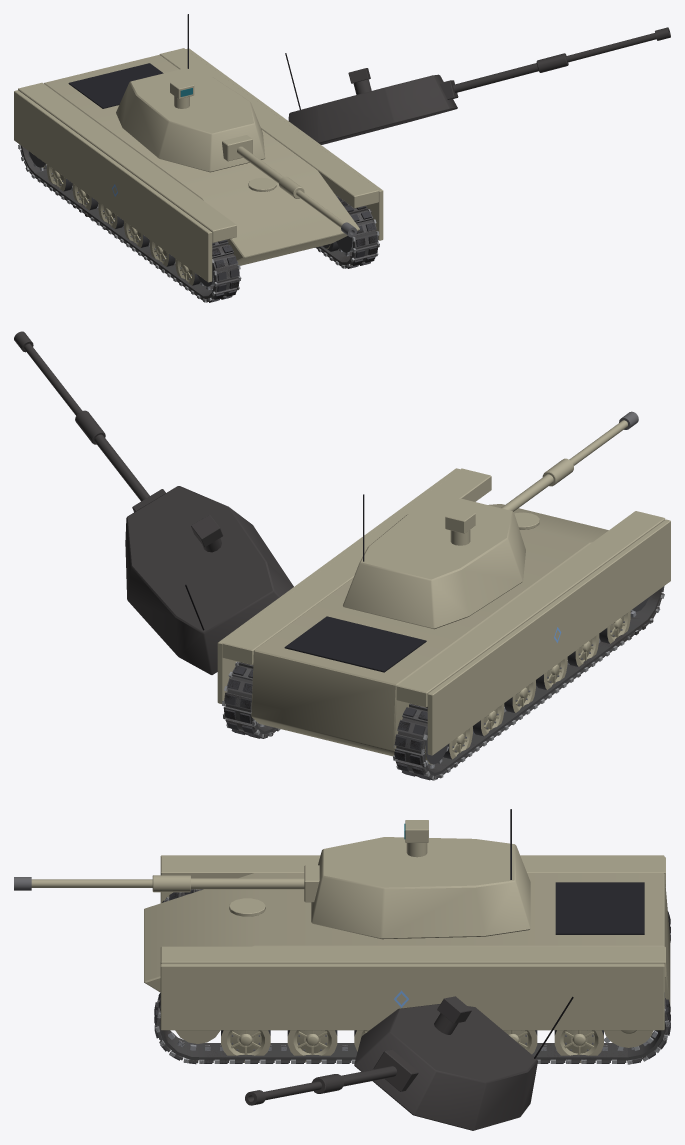
Rendered from directFire__harimau.glb.
The picture shows the model from 3 angles, top to bottom: view 1: azimuth 30°, elevation 25°; view 2: azimuth 150°, elevation 25°; view 3: azimuth 270°, elevation 25°; orthographic projection. The views are drawn at different scales.
Parts seen in each view (by area): view 1: Hull_Mesh, Wreck, Turret_Mesh, Track_L_Mesh, Gun_Mesh, Track_R_Mesh; view 2: Hull_Mesh, Wreck, Turret_Mesh, Track_L_Mesh, Track_R_Mesh, Gun_Mesh; view 3: Hull_Mesh, Turret_Mesh, Wreck, Track_R_Mesh, Gun_Mesh, Wheel_R4_Mesh, Wheel_R0_Mesh, Wheel_R5_Mesh, Sprocket_R_Mesh, Wheel_R1_Mesh.
Part boxes in pixels (x1=…): Hull_Mesh: x1=14, y1=48, x2=383, y2=282; Wreck: x1=19, y1=27, x2=670, y2=302; Turret_Mesh: x1=116, y1=14, x2=265, y2=172; Track_L_Mesh: x1=18, y1=144, x2=241, y2=302; Gun_Mesh: x1=222, y1=135, x2=357, y2=237; Track_R_Mesh: x1=315, y1=195, x2=379, y2=268; Hull_Mesh: x1=217, y1=468, x2=670, y2=756; Wreck: x1=14, y1=331, x2=663, y2=779; Turret_Mesh: x1=343, y1=494, x2=525, y2=629; Track_L_Mesh: x1=393, y1=586, x2=664, y2=780; Track_R_Mesh: x1=222, y1=661, x2=280, y2=738; Gun_Mesh: x1=501, y1=411, x2=638, y2=511; Hull_Mesh: x1=144, y1=855, x2=670, y2=1030; Turret_Mesh: x1=311, y1=809, x2=530, y2=939; Wreck: x1=154, y1=889, x2=670, y2=1130; Track_R_Mesh: x1=154, y1=992, x2=670, y2=1064; Gun_Mesh: x1=14, y1=865, x2=319, y2=902; Wheel_R4_Mesh: x1=287, y1=1030, x2=337, y2=1062; Wheel_R0_Mesh: x1=554, y1=1030, x2=603, y2=1063; Wheel_R5_Mesh: x1=221, y1=1030, x2=270, y2=1062; Sprocket_R_Mesh: x1=604, y1=1030, x2=653, y2=1050; Wheel_R1_Mesh: x1=503, y1=1030, x2=537, y2=1054.
Size of what is drawn, in the model's own units: 10.08 by 3.31 by 8.87.
